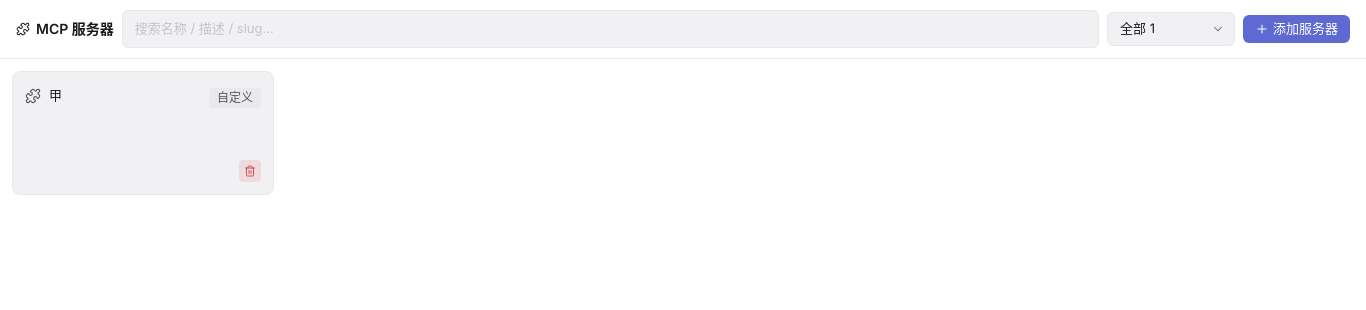
Test case: TypePageShell（已安装单态，P2.3 Task 1） › 行点击选中后挂载详情面板
Click the text "甲".
click(56, 96)  # box [49, 86, 62, 105]
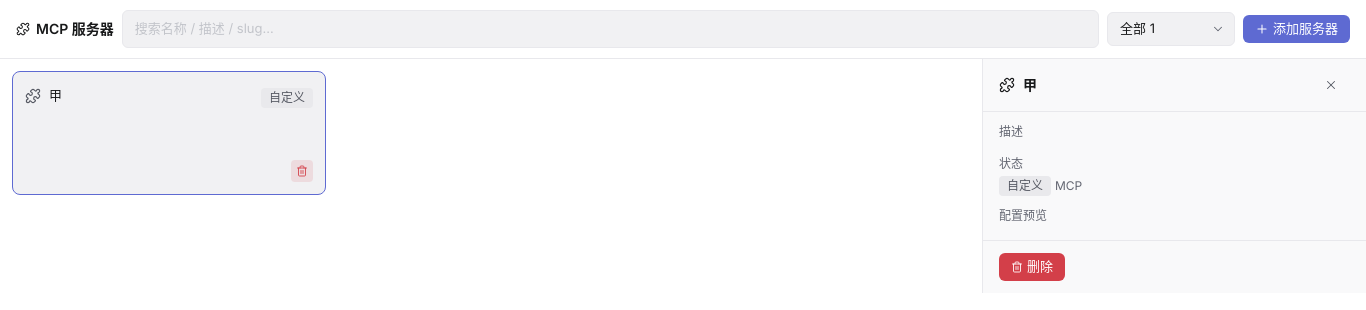
Result: the button named "关闭详情" is shown at [1312, 70, 1350, 98]
